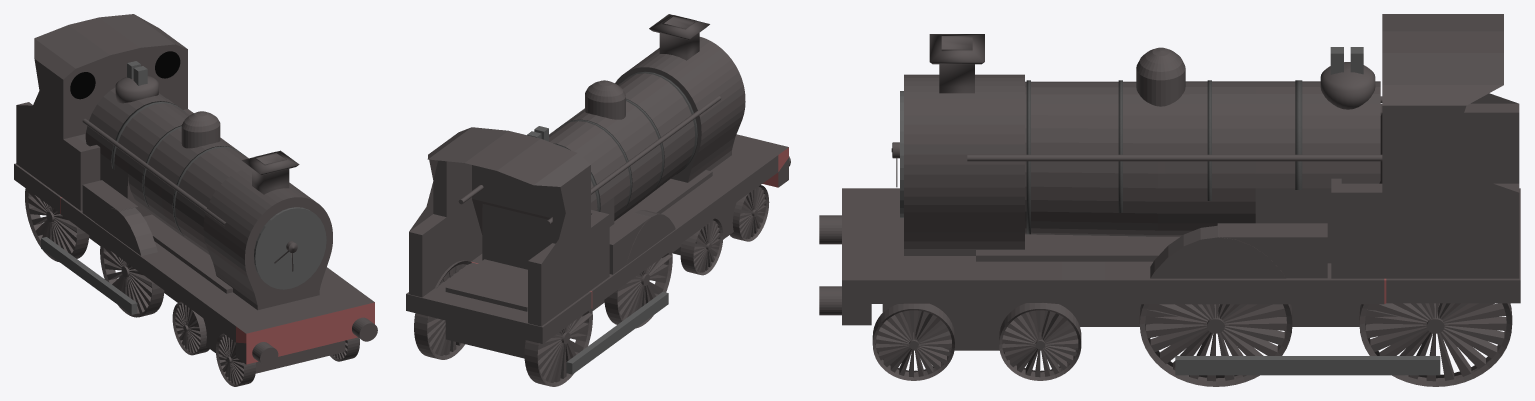
The model's file is lnwr-george-V-lms.dae.
3 renders of one model, left to right at view 1: azimuth 30°, elevation 25°; view 2: azimuth 150°, elevation 25°; view 3: azimuth 270°, elevation 25°, orthographic. The views are drawn at different scales.
Visible parts, largest first — view 1: Cube_006, Cube_003, Cylinder_019, Cylinder_020, Cube_007, Cylinder_000, Cylinder_012, Cube_004, Cylinder_004, Cylinder_008, Cube_009, Cube_001 (+10 smaller); view 2: Cube_006, Cylinder_019, Cube_003, Cylinder_020, Cube_004, Cylinder_000, Cylinder_012, Cube_009, Cube_001, Cylinder_023, Cylinder_008, Cube_011 (+5 smaller); view 3: Cylinder_019, Cube_006, Cube_003, Cylinder_020, Cylinder_000, Cylinder_012, Cube_004, Cube_009, Cylinder_023, Cylinder_008, Cylinder_001, Cube_010 (+7 smaller).
Part boxes in pixels (x1,y1,x2,y2): Cube_006: [16, 14, 193, 210]; Cube_003: [14, 163, 377, 365]; Cylinder_019: [85, 87, 250, 254]; Cylinder_020: [203, 167, 332, 310]; Cube_007: [254, 207, 326, 289]; Cylinder_000: [25, 188, 89, 262]; Cylinder_012: [100, 244, 164, 317]; Cube_004: [89, 214, 232, 302]; Cylinder_004: [95, 207, 157, 255]; Cylinder_008: [215, 333, 359, 386]; Cube_009: [41, 237, 137, 314]; Cube_001: [242, 150, 299, 194]; Cube_006: [409, 127, 609, 326]; Cylinder_019: [482, 73, 695, 269]; Cube_003: [406, 134, 790, 343]; Cylinder_020: [615, 37, 745, 182]; Cube_004: [445, 170, 712, 358]; Cylinder_000: [414, 260, 592, 386]; Cylinder_012: [604, 250, 672, 328]; Cube_009: [566, 292, 668, 374]; Cube_001: [649, 14, 709, 60]; Cylinder_023: [680, 218, 723, 275]; Cylinder_008: [730, 185, 769, 241]; Cube_011: [609, 212, 651, 274]; Cylinder_019: [1025, 81, 1380, 263]; Cube_006: [1331, 14, 1519, 278]; Cube_003: [819, 188, 1520, 325]; Cylinder_020: [904, 74, 1024, 255]; Cylinder_000: [1359, 303, 1512, 386]; Cylinder_012: [1139, 304, 1292, 386]; Cube_004: [976, 234, 1439, 326]; Cube_009: [1175, 356, 1440, 375]; Cylinder_023: [999, 303, 1081, 380]; Cylinder_008: [872, 303, 954, 380]; Cylinder_001: [1150, 225, 1285, 278]; Cube_010: [1217, 223, 1327, 278].
Size of the model in its own units: 1.85 by 5.88 by 2.79.
